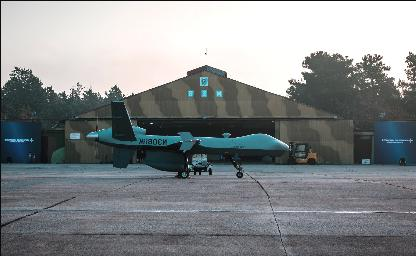MQ9: (86, 99, 296, 177)
